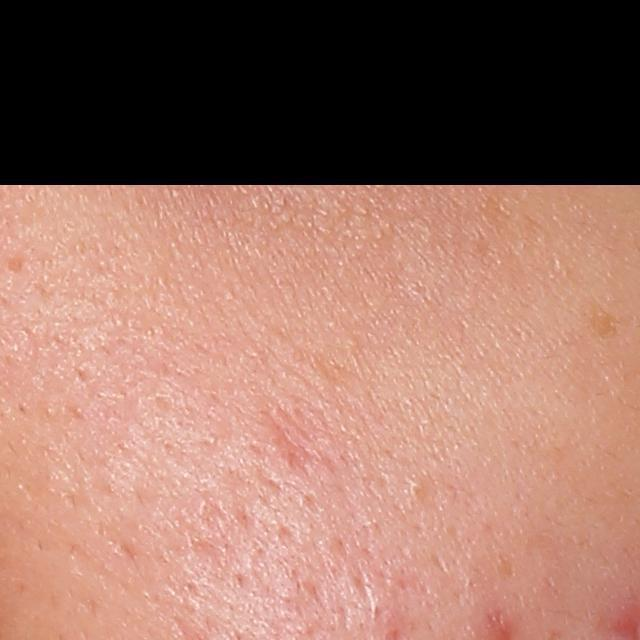comedo: (404, 477, 425, 496)
melasma: (582, 294, 627, 346)
